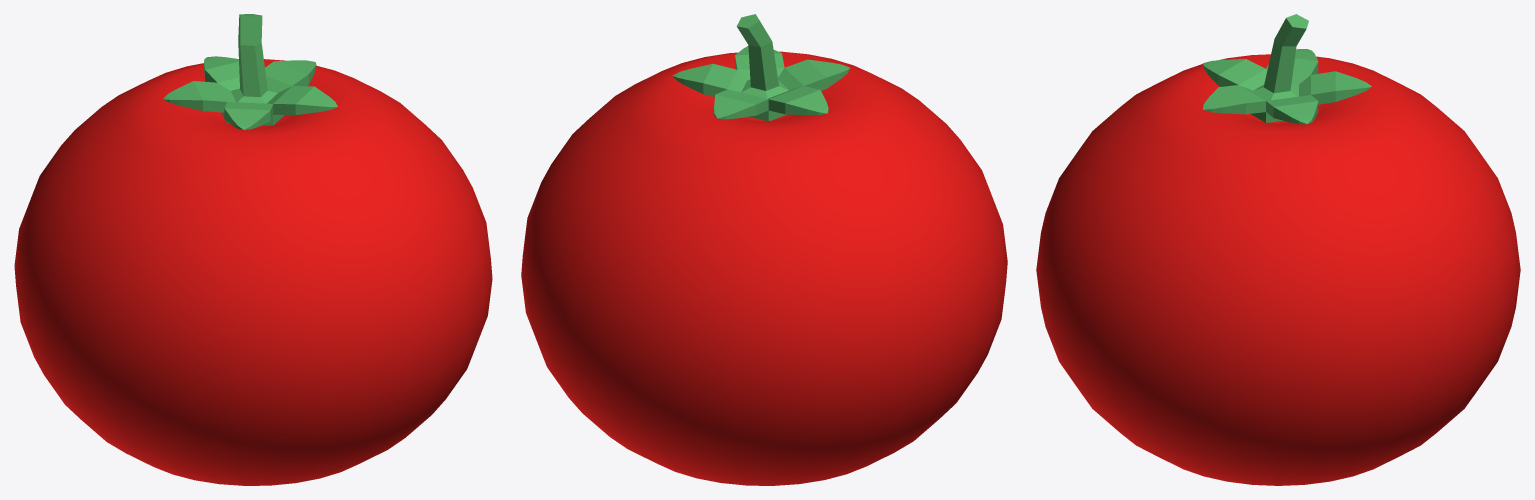
The model's file is tomato.glb.
3 views of the same model, side by side, from view 1: azimuth 30°, elevation 25°; view 2: azimuth 150°, elevation 25°; view 3: azimuth 270°, elevation 25° (orthographic).
Visible parts, largest first — view 1: TOMATO; view 2: TOMATO; view 3: TOMATO.
Boxes of the visible parts, x1,y1,x2,y2 form: TOMATO: (14, 14, 492, 485); TOMATO: (521, 14, 1007, 485); TOMATO: (1036, 14, 1520, 485).
Bounding box in the file's own units: 0.4035 × 0.4098 × 0.4035.
